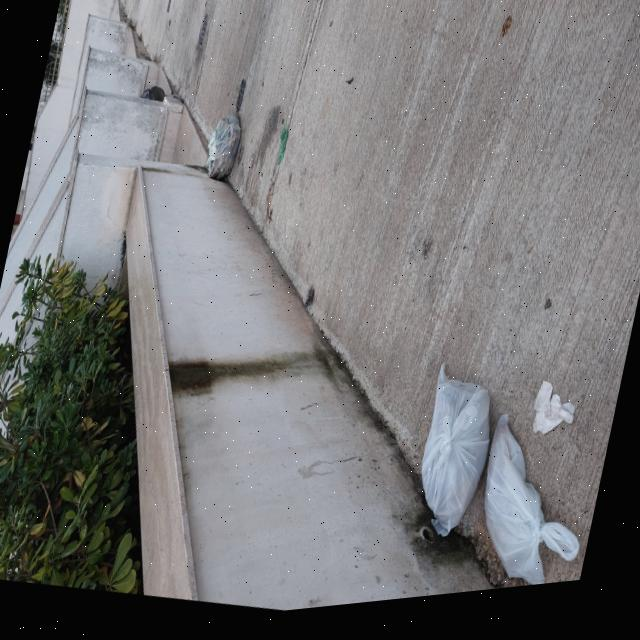Organic Waste -White Bag-: (461, 410, 613, 603), (398, 364, 506, 562), (195, 98, 253, 193)
